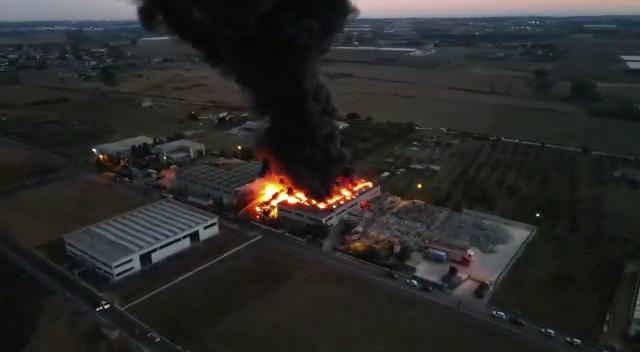fire: (256, 185, 284, 211)
